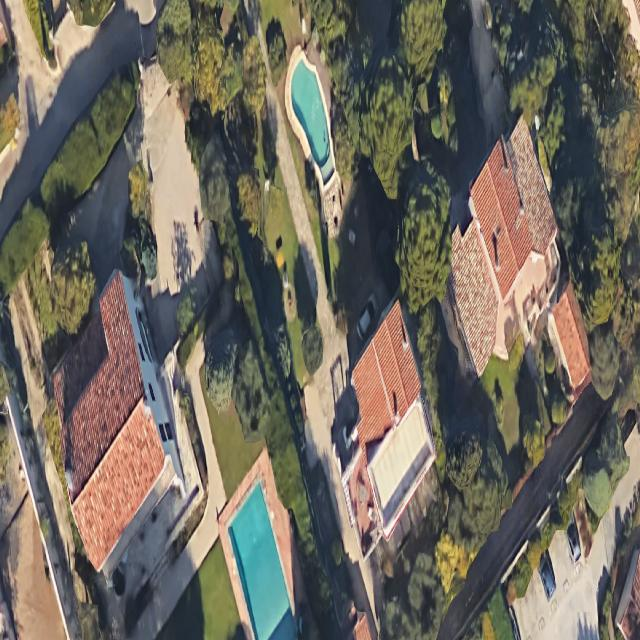maison: (16, 264, 209, 586), (315, 299, 450, 558), (438, 114, 567, 377)
